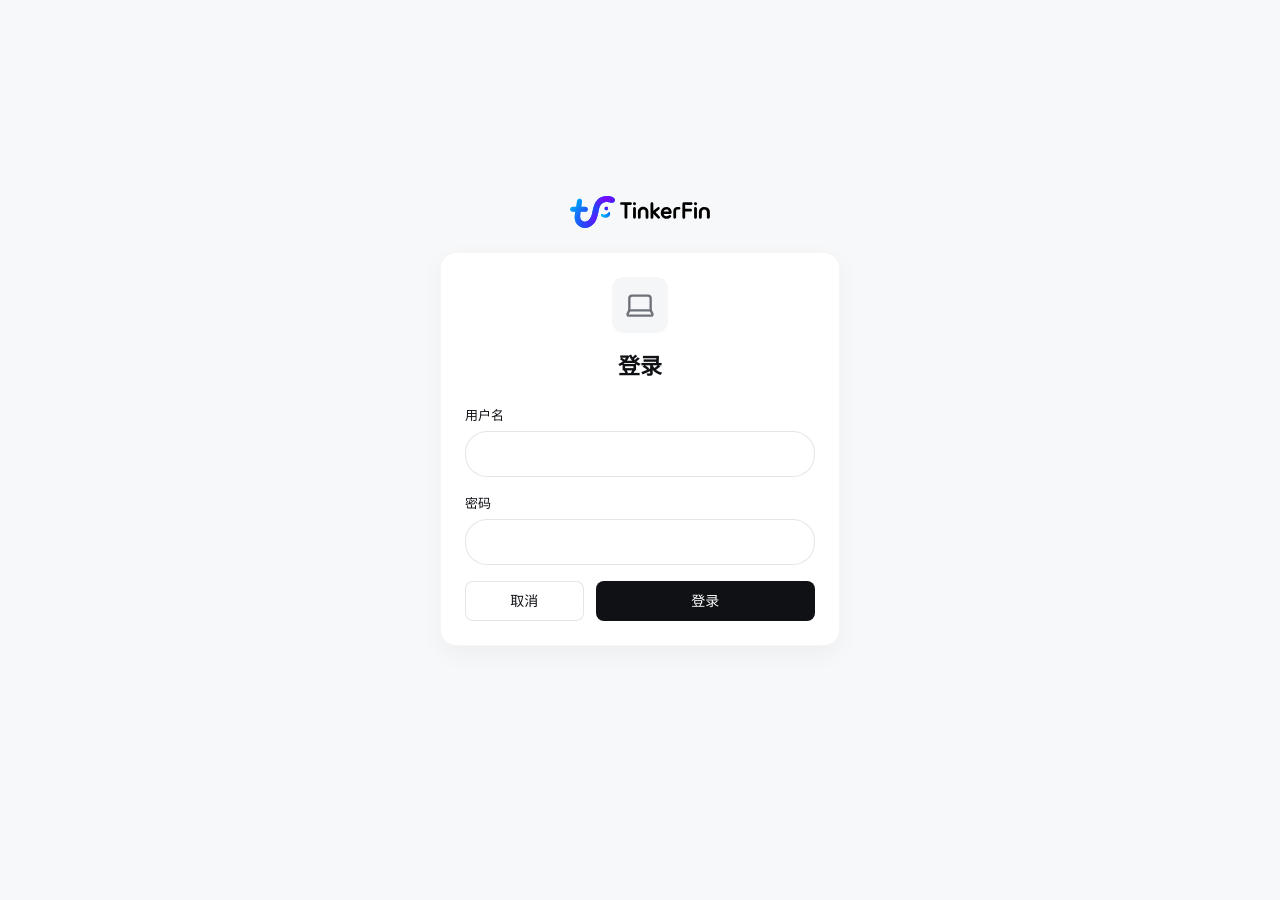
Test: App authentication boundary › 未登录的无效入口退出授权后保留安全设置目的地
Click the button "取消" at (524, 601), box [465, 581, 584, 621]
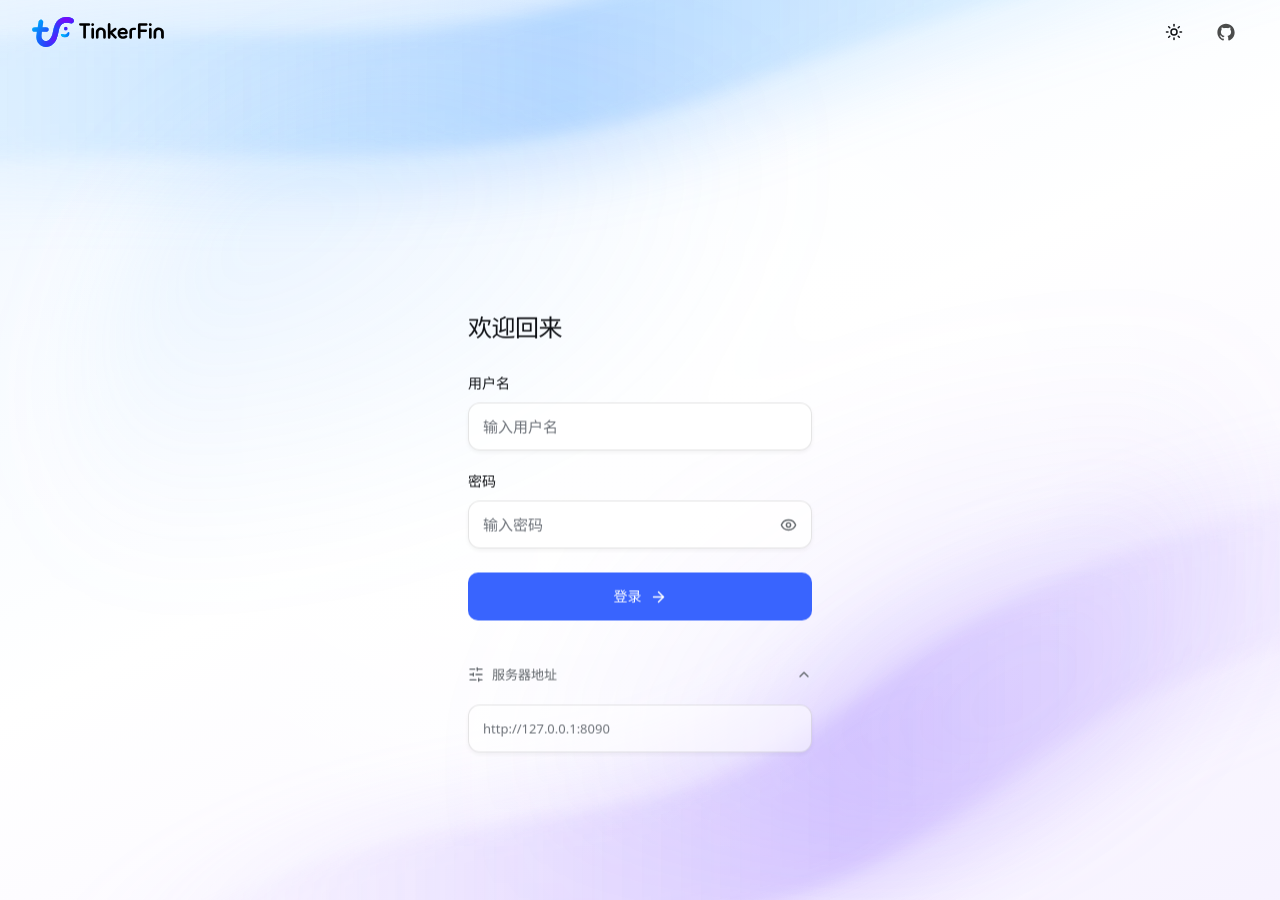
Expected: the heading "欢迎回来" is shown, [468, 310, 562, 344]
